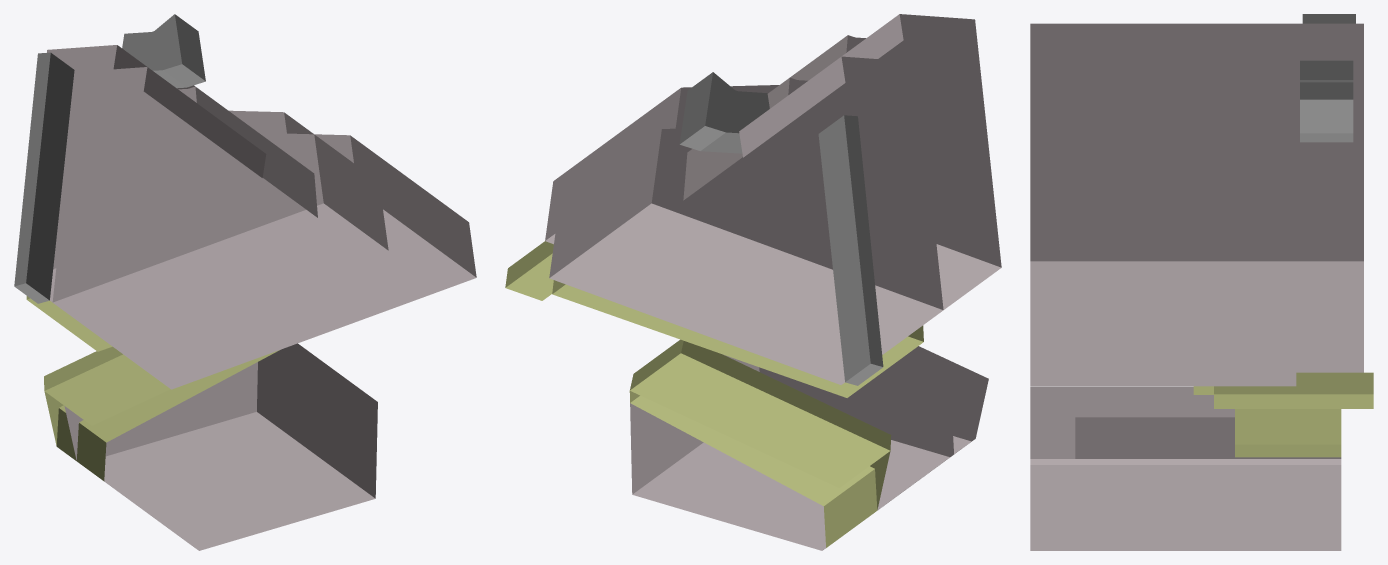
3 views of the same model, side by side, from view 1: azimuth 30°, elevation 25°; view 2: azimuth 150°, elevation 25°; view 3: azimuth 270°, elevation 25° (orthographic). The views are drawn at different scales.
Visible parts, largest first — view 1: 0_1_2_0_3_3_1_3_3_1; view 2: 0_1_2_0_3_3_1_3_3_1; view 3: 0_1_2_0_3_3_1_3_3_1.
Boxes of the visible parts, x1,y1,x2,y2 form: 0_1_2_0_3_3_1_3_3_1: [14, 14, 476, 550]; 0_1_2_0_3_3_1_3_3_1: [505, 14, 1001, 550]; 0_1_2_0_3_3_1_3_3_1: [1030, 14, 1373, 550].
Bounding box in the file's own units: 23.28 × 28 × 19.35.
